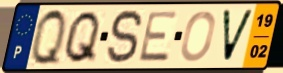E: (136, 10, 181, 64)
O: (179, 9, 218, 63)
Q: (61, 9, 103, 66), (30, 6, 68, 68)
S: (105, 7, 145, 66)
V: (220, 7, 256, 64)
